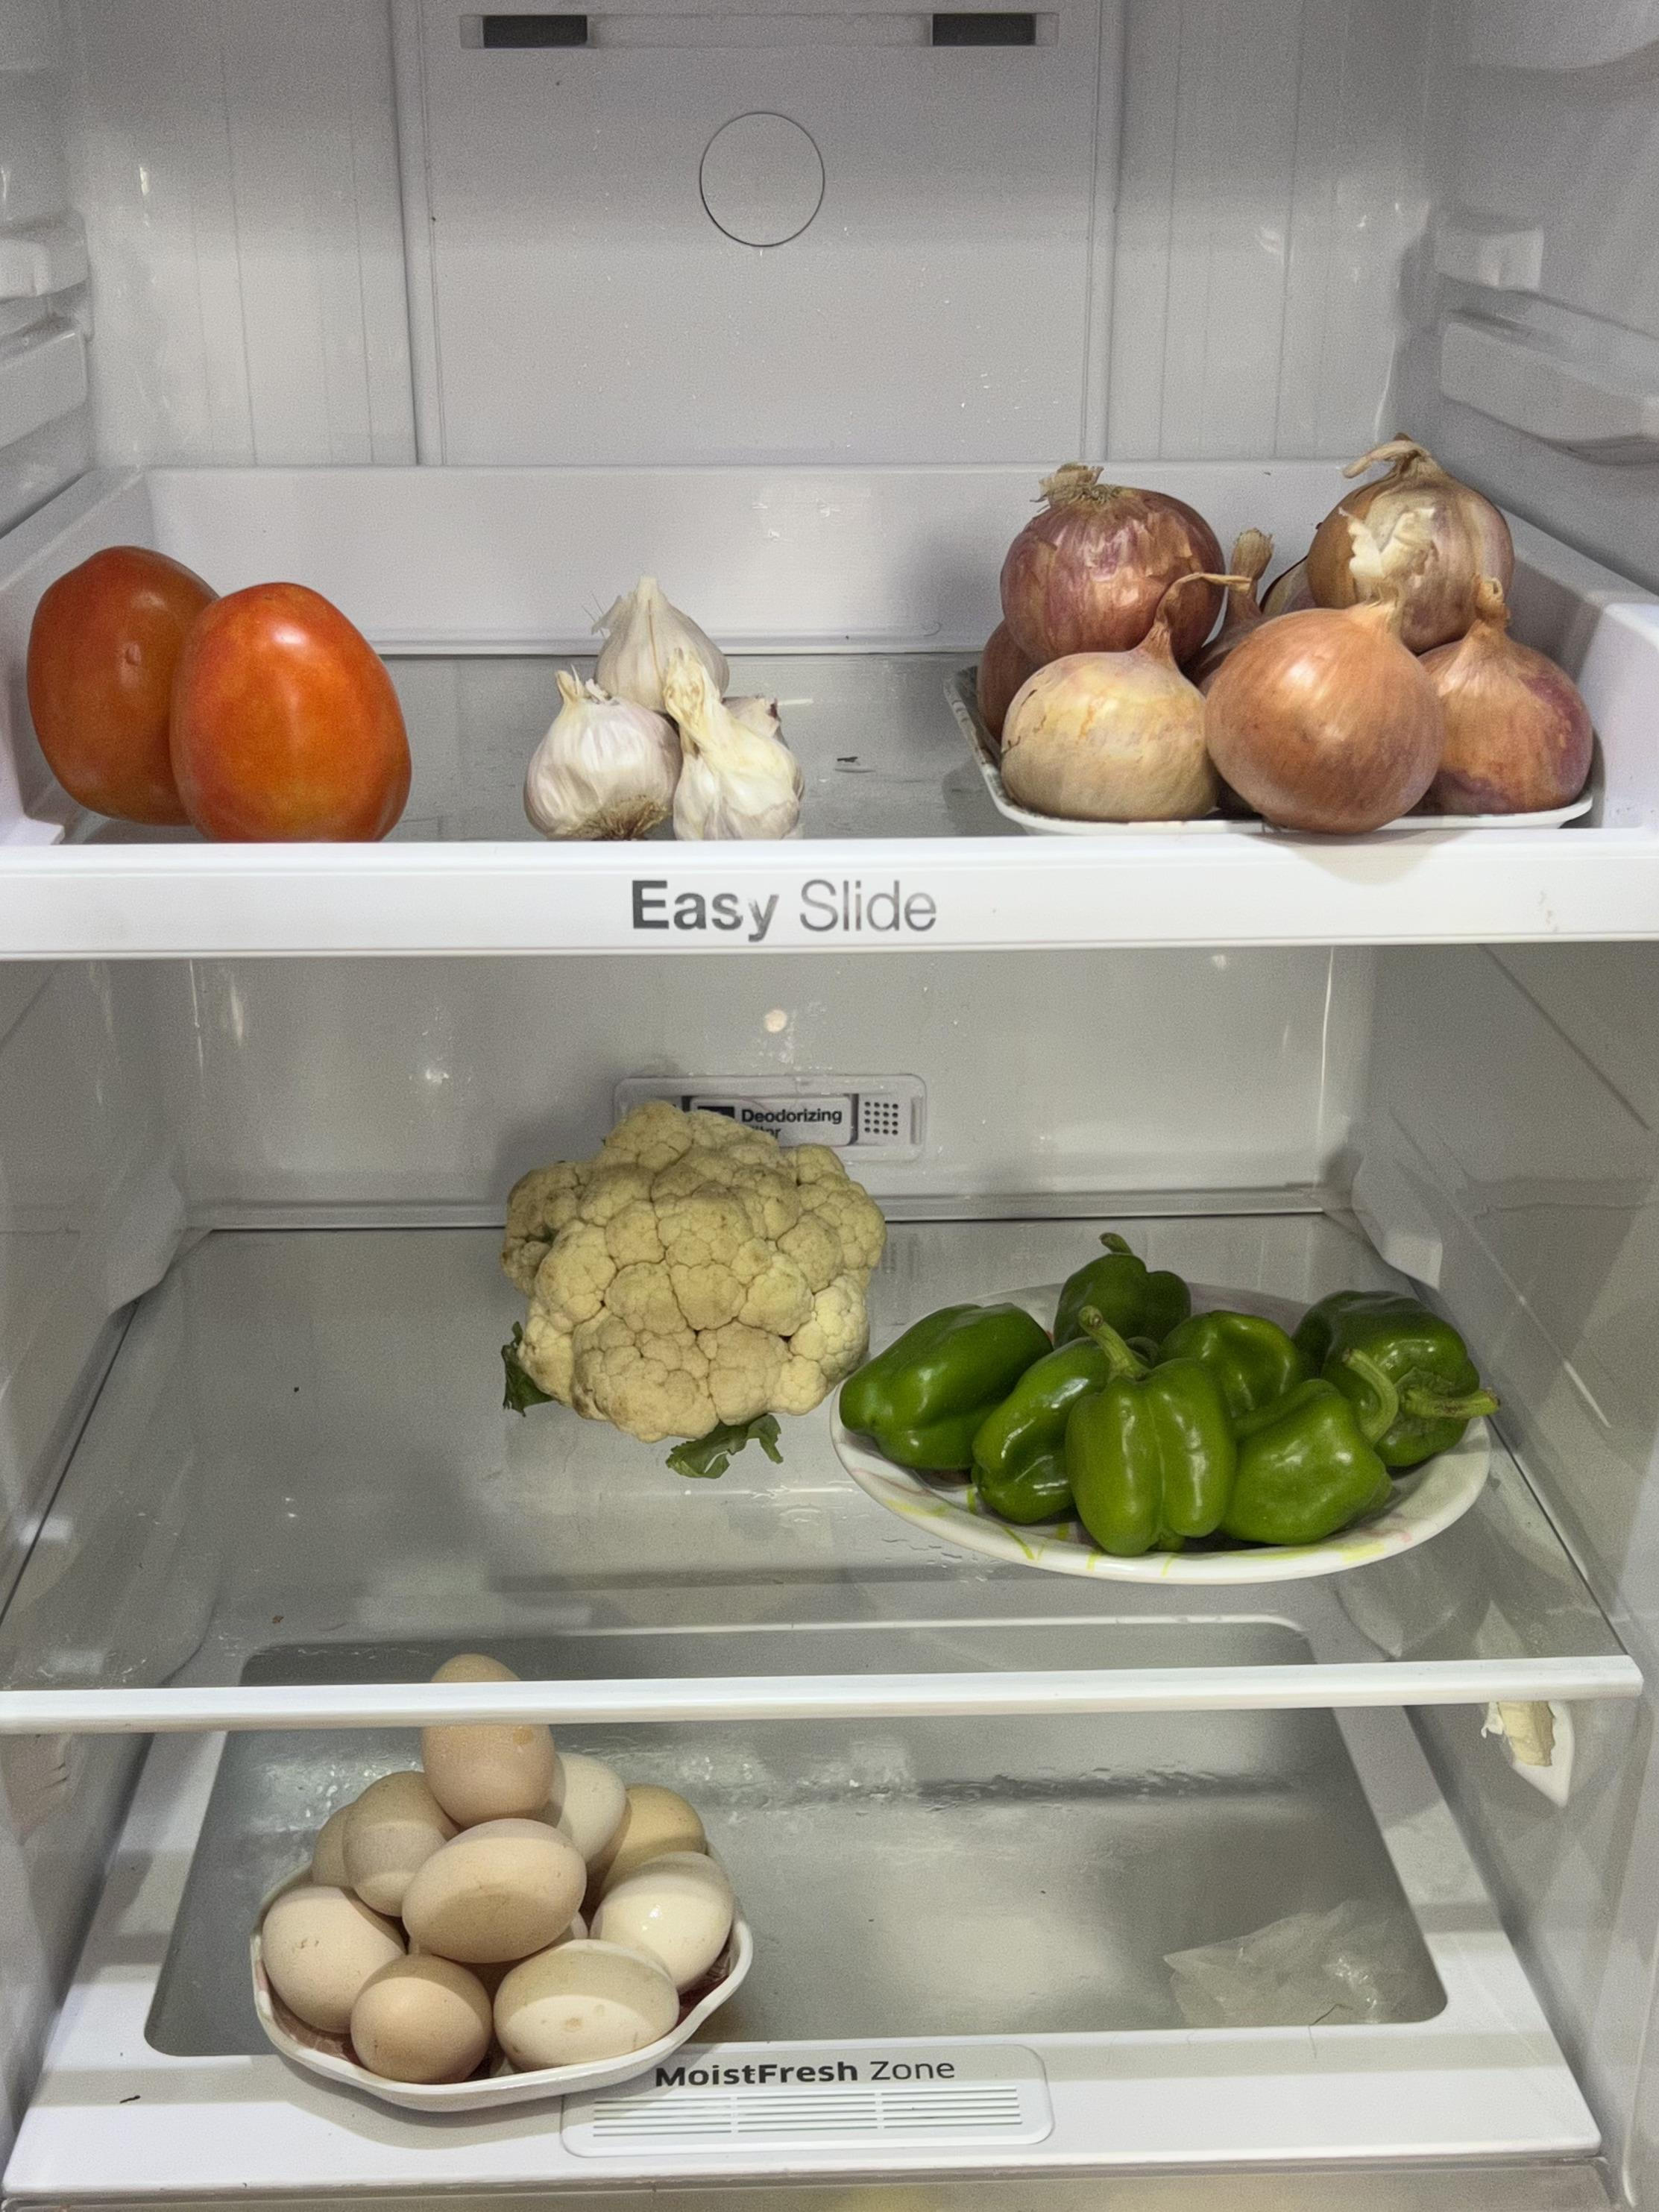capsicum: (823, 1247, 1499, 1559)
cauliflower: (509, 1089, 885, 1428)
egg: (263, 1709, 772, 2095)
garlic: (514, 568, 809, 838)
onion: (979, 465, 1617, 815)
tomato: (31, 524, 430, 853)
